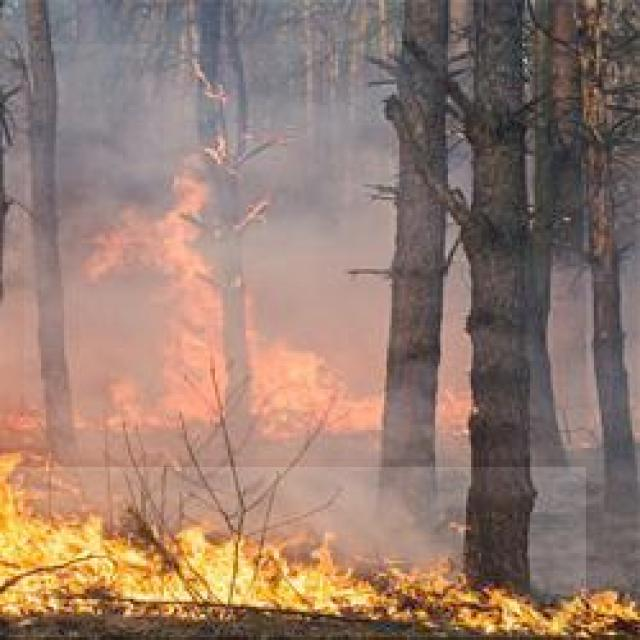Fire: (9, 467, 586, 637), (116, 152, 296, 435)
Smoke: (24, 44, 612, 459)
